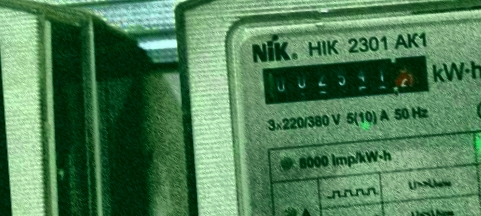0: (273, 71, 287, 93), (293, 67, 307, 89)
1: (374, 60, 387, 83)
2: (313, 65, 329, 88)
4: (354, 61, 367, 83)
5: (333, 63, 348, 87)
6: (397, 74, 409, 87)
screen: (248, 44, 441, 111)
